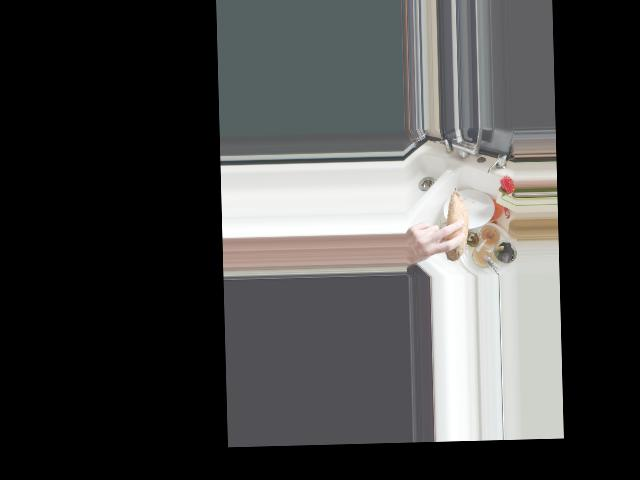sweet_potato: (439, 184, 468, 263)
